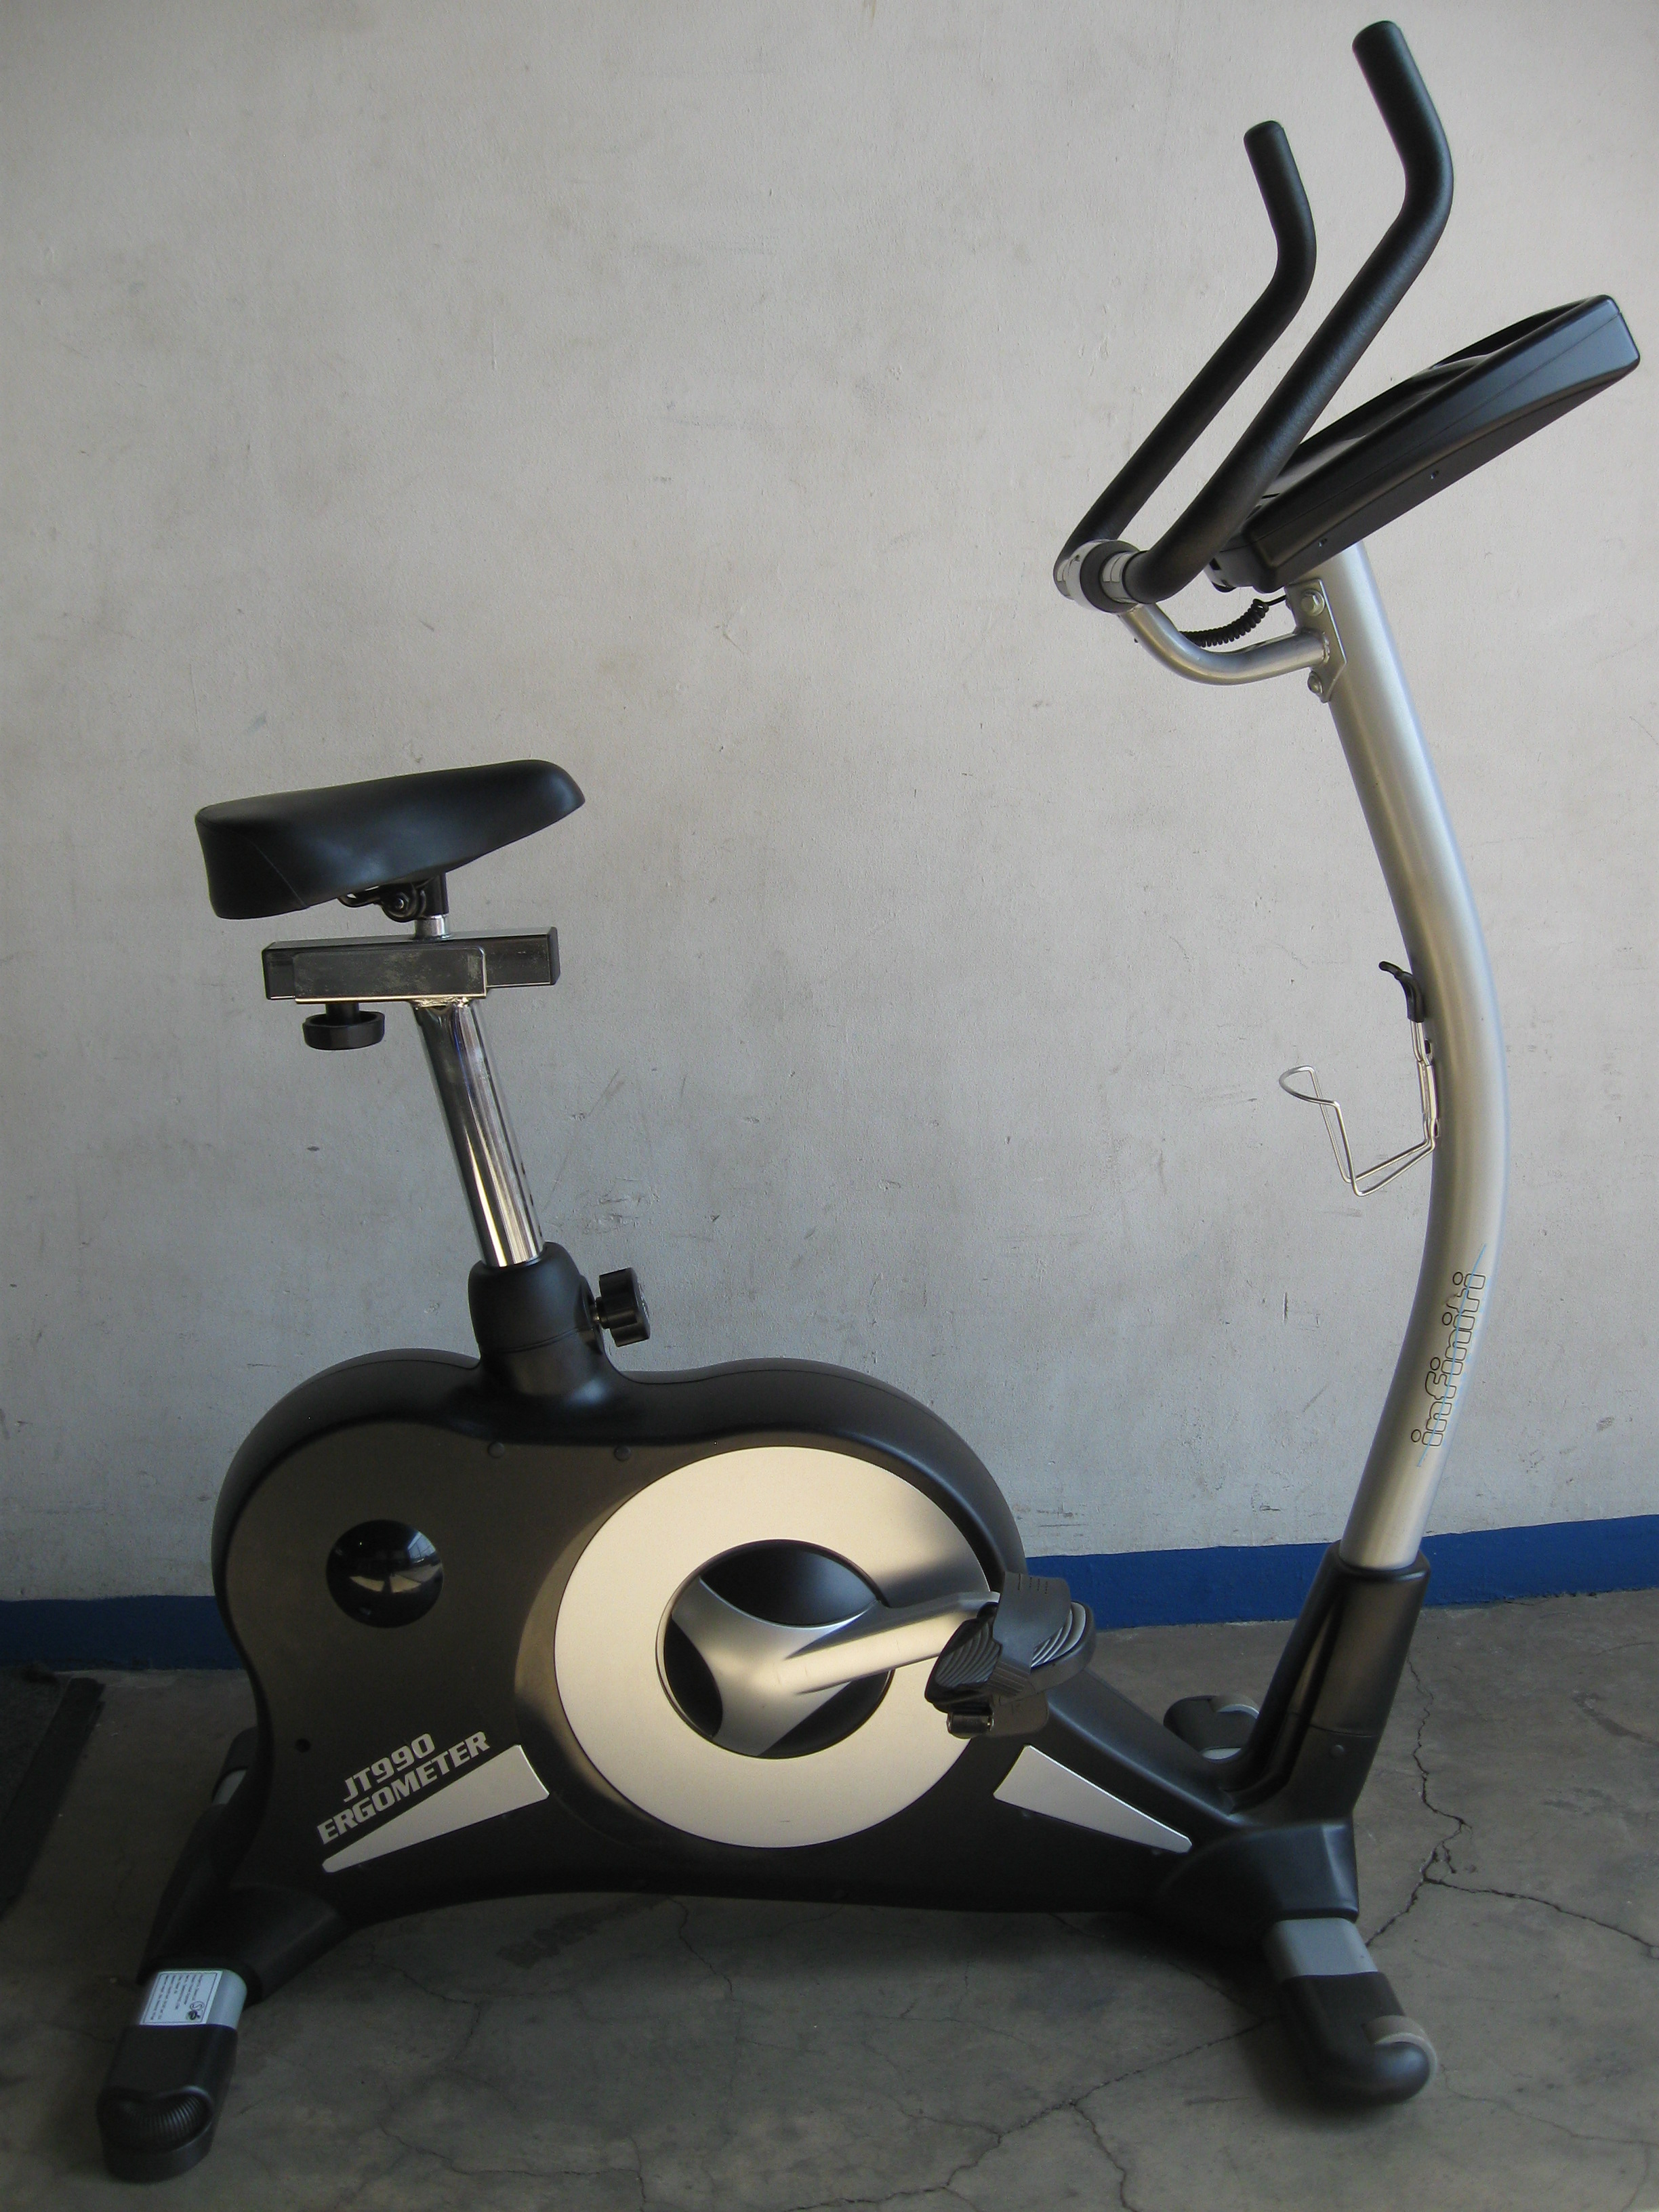gym_bike: (87, 37, 1645, 2175)
